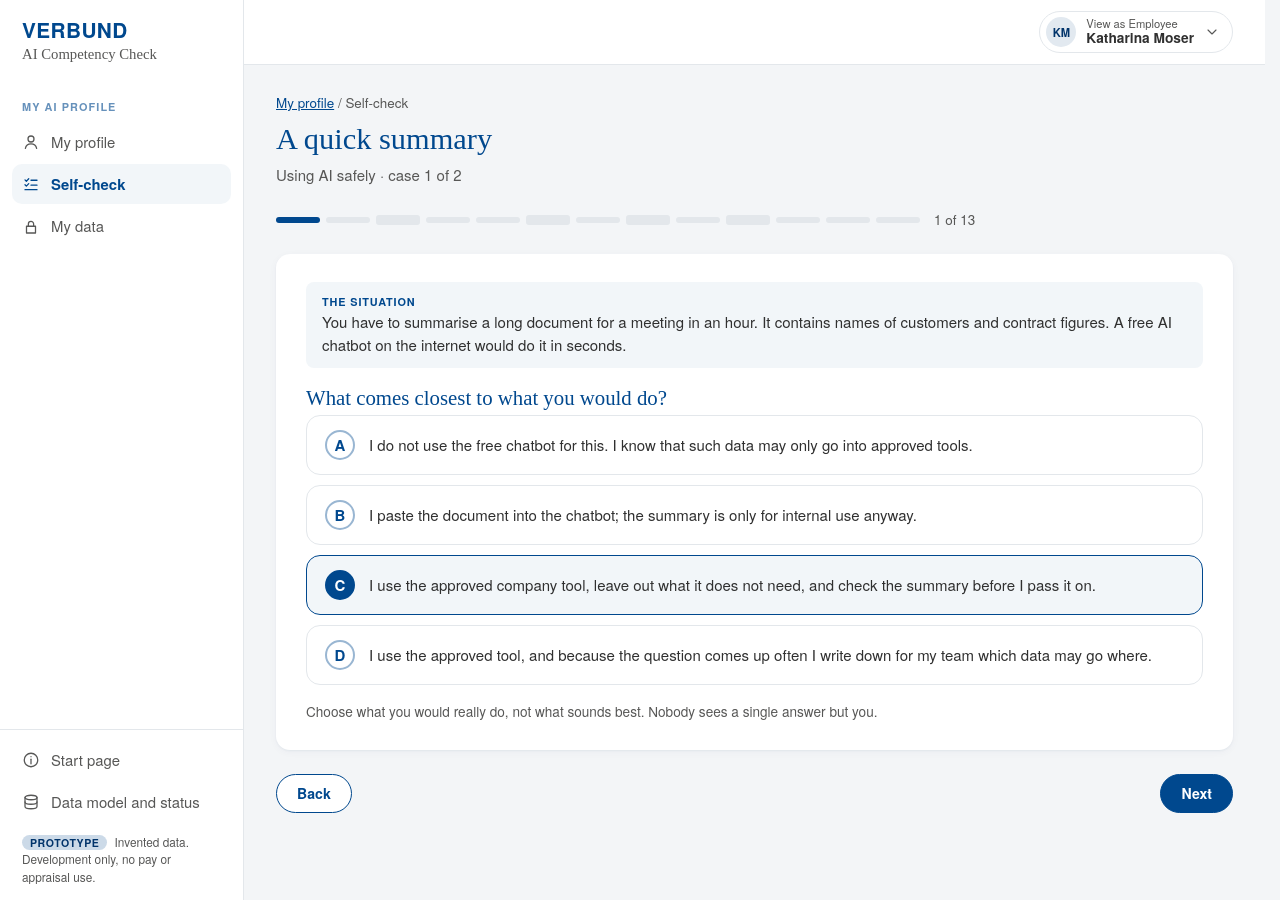
Test: the journey of one person › keeps the changes after a reload and forgets them after a reset
Earlier steps of the test are not shown.
Expected: the navigation bar named "Main" is shown, [12,100,231,236]
Expected: the 3rd radio button is checked, [306,555,1203,615]
Click the button "KM View as Employee Katharina Moser".
click(1136, 32)  # box [1039,11,1233,53]
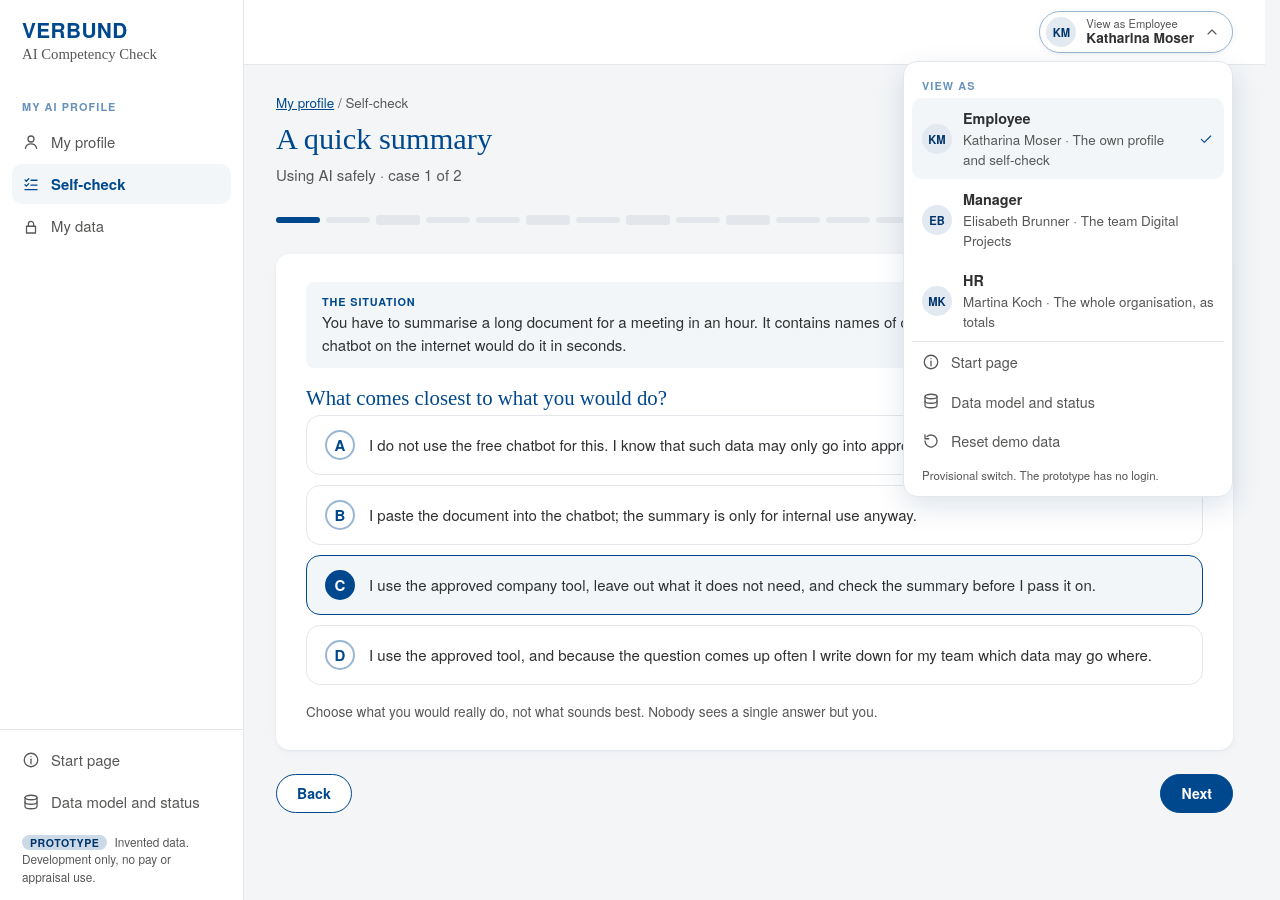
Click the button "Reset demo data".
click(1006, 441)  # box [912,421,1224,461]
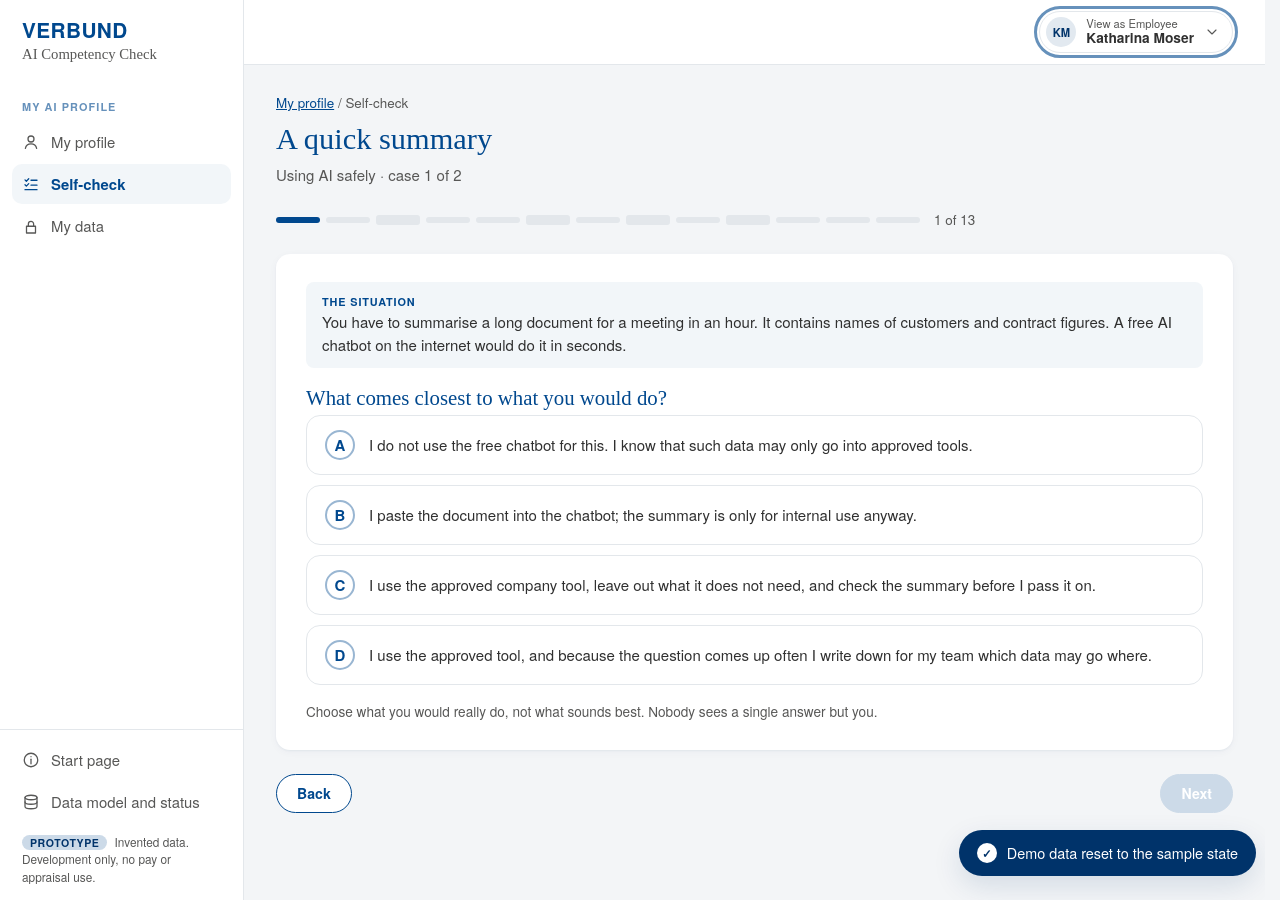
Expected: the 3rd radio button is not checked, [306,555,1203,615]
